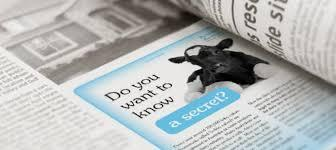Printing industry: (0, 3, 336, 150)
